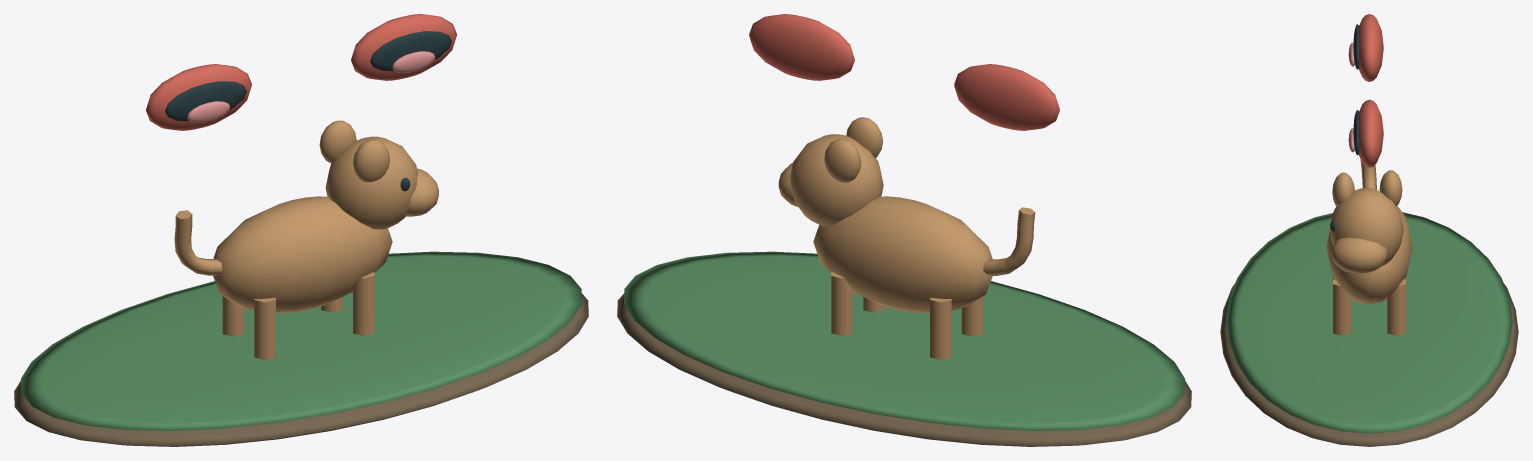
The model's file is crying-mouths.glb.
The picture shows the model from 3 angles, left to right: view 1: azimuth 30°, elevation 25°; view 2: azimuth 150°, elevation 25°; view 3: azimuth 270°, elevation 25°; orthographic projection. The views are drawn at different scales.
Parts seen in each view (by area): view 1: crying-mouths_surface_01, crying-mouths_surface_05, crying-mouths_surface_00, crying-mouths_surface_02, crying-mouths_surface_03, crying-mouths_surface_04; view 2: crying-mouths_surface_01, crying-mouths_surface_05, crying-mouths_surface_02, crying-mouths_surface_00; view 3: crying-mouths_surface_01, crying-mouths_surface_05, crying-mouths_surface_00, crying-mouths_surface_02, crying-mouths_surface_03.
Boxes of the visible parts, x1,y1,x2,y2 form: crying-mouths_surface_01: (21, 251, 581, 430); crying-mouths_surface_05: (174, 120, 438, 359); crying-mouths_surface_00: (14, 293, 588, 446); crying-mouths_surface_02: (146, 14, 456, 130); crying-mouths_surface_03: (165, 31, 451, 191); crying-mouths_surface_04: (187, 51, 435, 122); crying-mouths_surface_01: (624, 251, 1184, 430); crying-mouths_surface_05: (778, 117, 1035, 359); crying-mouths_surface_02: (749, 14, 1059, 130); crying-mouths_surface_00: (617, 293, 1191, 446); crying-mouths_surface_01: (1226, 212, 1512, 433); crying-mouths_surface_05: (1326, 160, 1412, 335); crying-mouths_surface_00: (1220, 283, 1518, 446); crying-mouths_surface_02: (1358, 14, 1383, 167); crying-mouths_surface_03: (1330, 24, 1359, 231).
Bounding box in the file's own units: 4.56 × 2.6 × 2.5.
